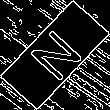N_SE: (22, 23, 88, 87)
